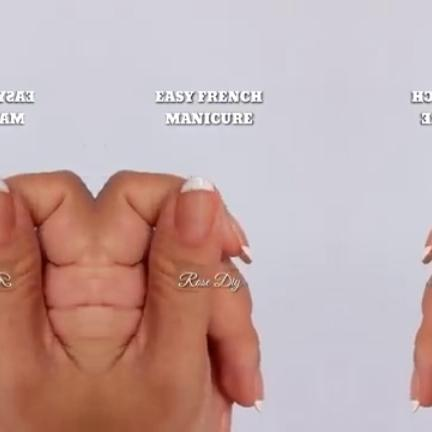Nail: (175, 176, 215, 243), (226, 212, 250, 260), (0, 179, 13, 243), (253, 369, 264, 413), (409, 369, 420, 413), (423, 229, 432, 260)
